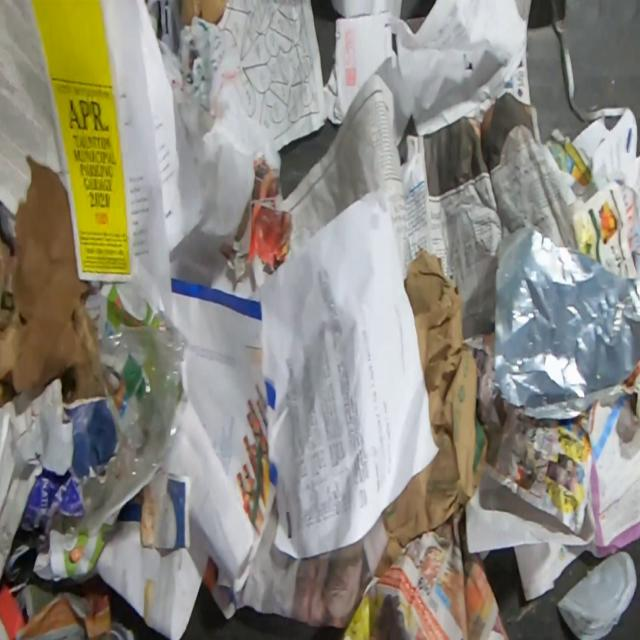cardboard: (371, 247, 491, 583), (0, 153, 125, 411), (10, 401, 114, 556), (180, 0, 226, 25)
rigid_plastic: (70, 306, 188, 540), (557, 551, 637, 640)
soft_plastic: (492, 225, 640, 420)
